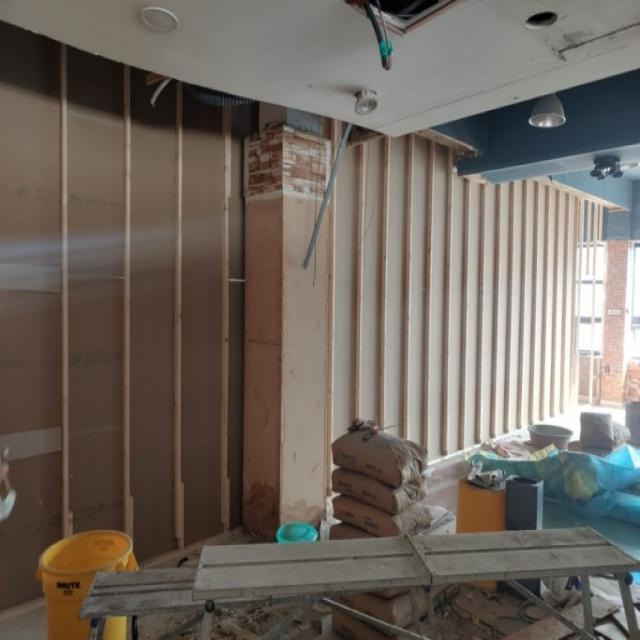concrete bag: (332, 582, 460, 635), (332, 426, 428, 488), (331, 467, 427, 514), (332, 494, 432, 536), (332, 606, 413, 640), (526, 424, 574, 451), (329, 522, 380, 540)
stud: (327, 116, 584, 499)
wood: (0, 21, 246, 624)
